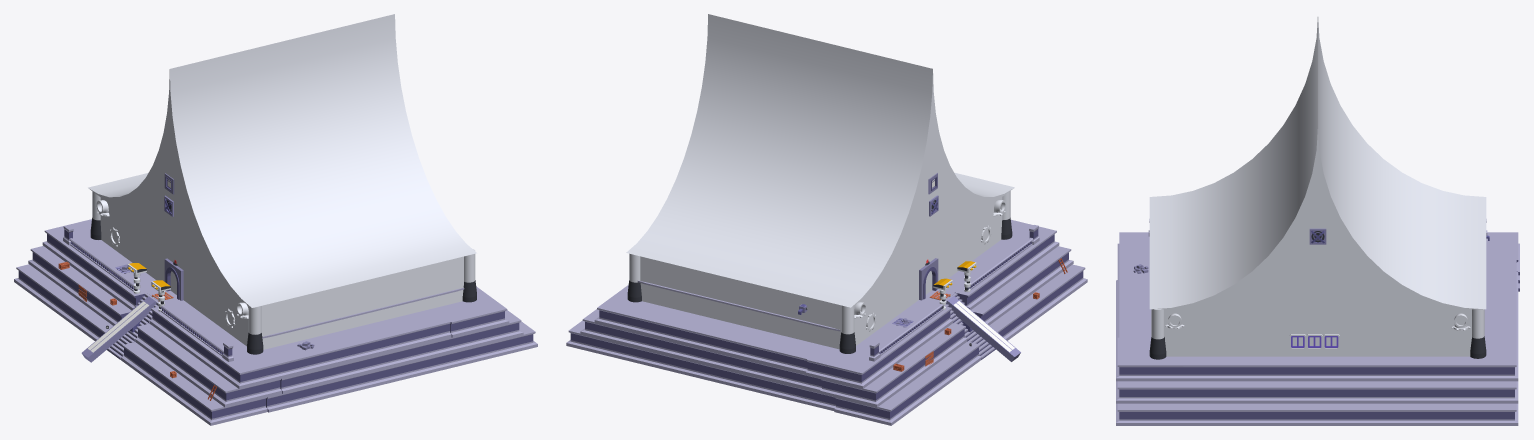
File: Temple.fbx
The picture shows the model from 3 angles, left to right: view 1: azimuth 30°, elevation 25°; view 2: azimuth 150°, elevation 25°; view 3: azimuth 270°, elevation 25°; orthographic projection. The views are drawn at different scales.
Visible parts, largest first — view 1: halfPipe_half (×2), floor_side (×9), block (×2), floor_corner (×9), pipe_largeBase (×2), solar_large, cornice_shallow; view 2: halfPipe_half (×2), floor_side (×9), block (×2), floor_corner (×9), pipe_largeBase (×2), solar_large, cornice_shallow, wall_gate; view 3: halfPipe_half (×2), floor_side (×8), block, floor_corner (×8), pipe_largeBase (×2).
Part boxes in pixels (bbox=[...]): halfPipe_half (×2): bbox=[88, 14, 476, 307]; floor_side (×9): bbox=[47, 246, 480, 412]; block (×2): bbox=[100, 197, 463, 349]; floor_corner (×9): bbox=[14, 219, 537, 425]; pipe_largeBase (×2): bbox=[247, 249, 476, 354]; solar_large: bbox=[81, 296, 156, 362]; cornice_shallow: bbox=[262, 288, 464, 338]; halfPipe_half (×2): bbox=[626, 14, 1014, 307]; floor_side (×9): bbox=[621, 246, 1055, 410]; block (×2): bbox=[640, 197, 1002, 349]; floor_corner (×9): bbox=[566, 220, 1087, 425]; pipe_largeBase (×2): bbox=[627, 253, 855, 353]; solar_large: bbox=[946, 296, 1020, 361]; cornice_shallow: bbox=[637, 280, 840, 331]; wall_gate: bbox=[919, 258, 938, 300]; halfPipe_half (×2): bbox=[1149, 17, 1486, 309]; floor_side (×8): bbox=[1117, 254, 1518, 425]; block: bbox=[1165, 309, 1471, 356]; floor_corner (×8): bbox=[1116, 232, 1519, 425]; pipe_largeBase (×2): bbox=[1149, 309, 1486, 359].
Size of the model in its own units: 249 by 182 by 240.
